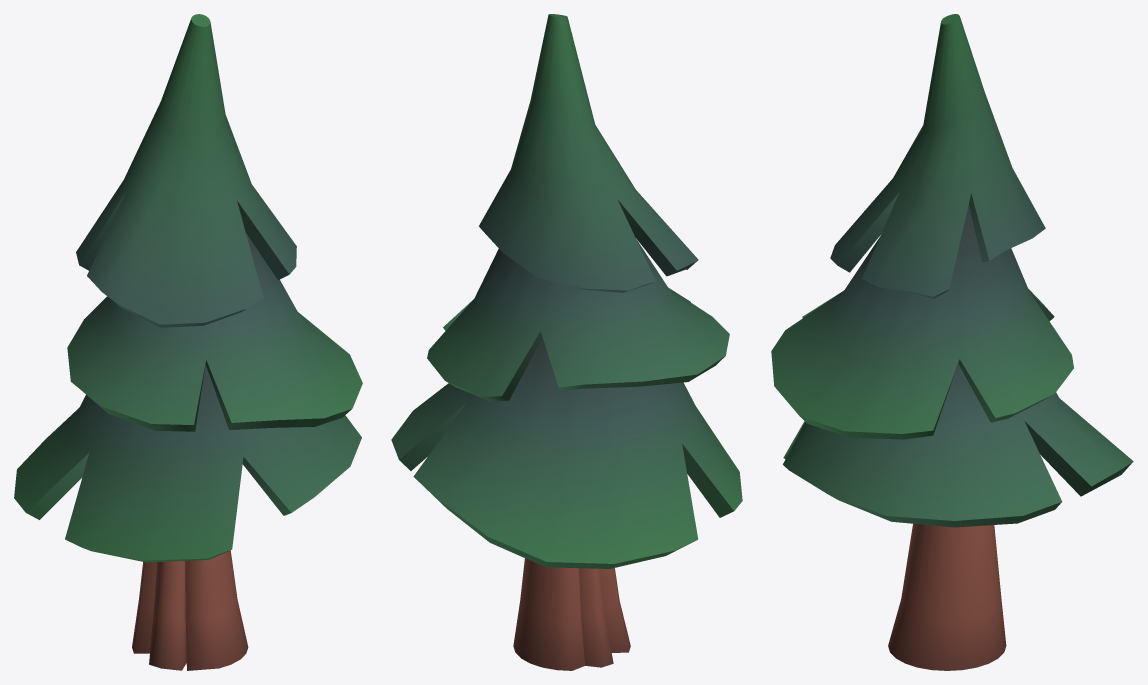
File: Pine_Tree_05.fbx
3 renders of one model, left to right at view 1: azimuth 30°, elevation 25°; view 2: azimuth 150°, elevation 25°; view 3: azimuth 270°, elevation 25°, orthographic.
Parts seen in each view (by area): view 1: Pine_Tree_05; view 2: Pine_Tree_05; view 3: Pine_Tree_05.
Boxes of the visible parts, x1=… form: Pine_Tree_05: x1=14, y1=14, x2=362, y2=670; Pine_Tree_05: x1=391, y1=14, x2=742, y2=670; Pine_Tree_05: x1=771, y1=14, x2=1133, y2=670.
Bounding box in the file's own units: 386 × 771 × 398.
